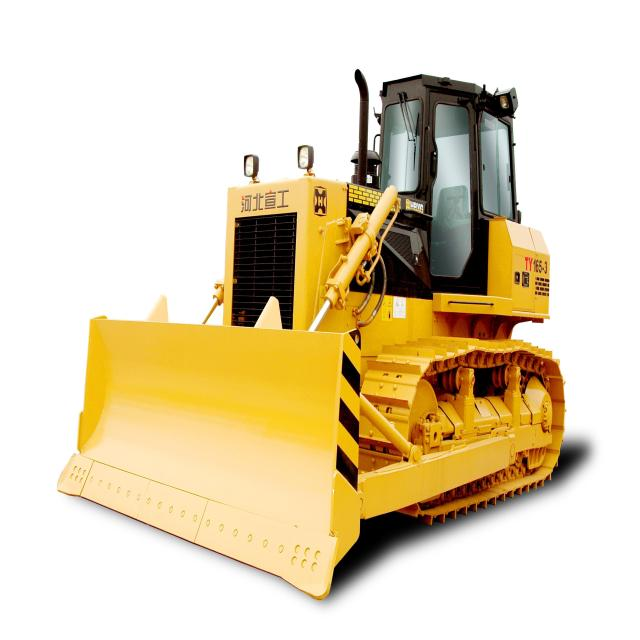buldozerpayloadergrader: (58, 43, 588, 603)
